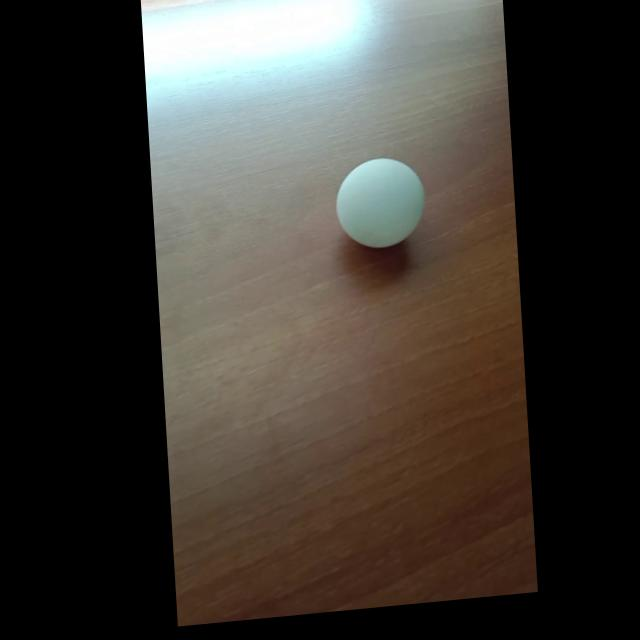white ball: (333, 153, 427, 253)
